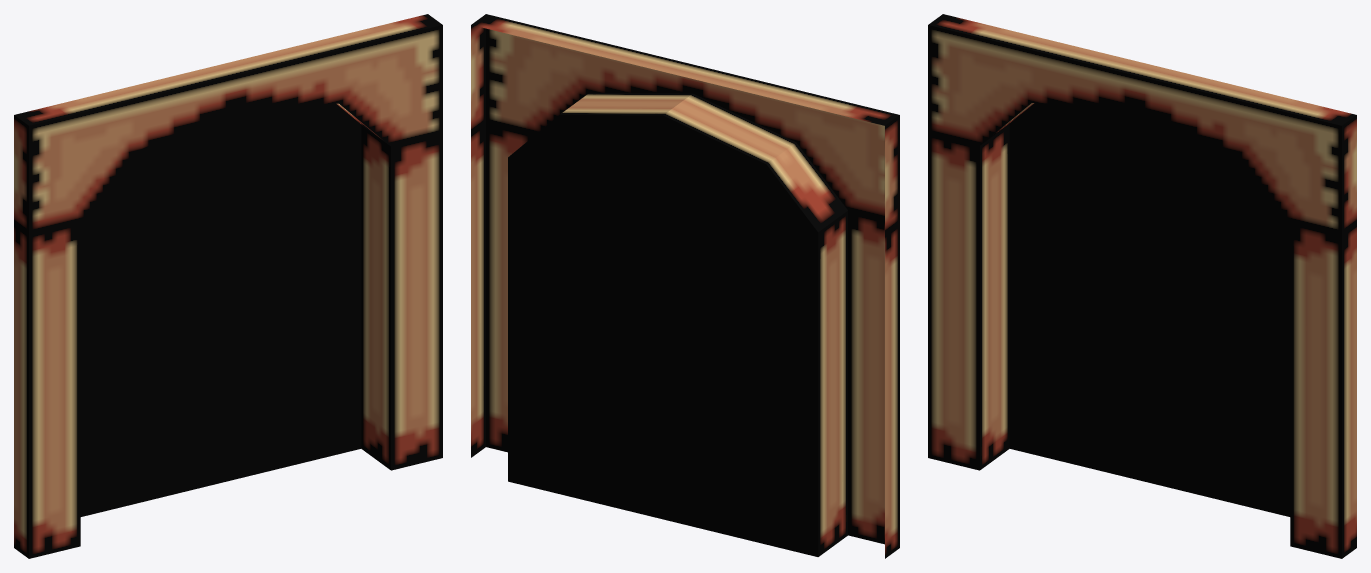
File: arch_door_woodWindowOpen.FBX
3 renders of one model, left to right at view 1: azimuth 30°, elevation 25°; view 2: azimuth 150°, elevation 25°; view 3: azimuth 330°, elevation 25°, orthographic.
Visible parts, largest first — view 1: arch_door_woodWindowOpen; view 2: arch_door_woodWindowOpen; view 3: arch_door_woodWindowOpen.
Boxes of the visible parts, box(x1,y1,x2,y2) form: arch_door_woodWindowOpen: box(14, 14, 442, 558); arch_door_woodWindowOpen: box(471, 14, 899, 558); arch_door_woodWindowOpen: box(928, 14, 1356, 558).
Size of the model in its own units: 4 by 4 by 0.5.
1 material, 1 textured.
